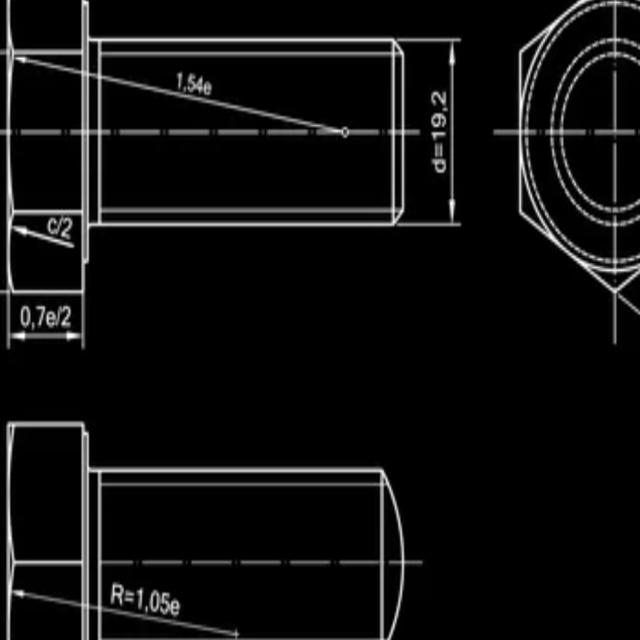marking_line: (15, 56, 341, 129), (13, 589, 241, 638), (404, 37, 462, 225), (5, 296, 89, 350), (12, 225, 74, 255)
numeric: (19, 303, 32, 328), (430, 88, 446, 107), (61, 306, 74, 328), (35, 304, 46, 327), (63, 217, 73, 242), (431, 115, 447, 129), (186, 71, 196, 93), (195, 75, 205, 94), (150, 590, 159, 611), (169, 598, 180, 615), (161, 590, 169, 613), (430, 129, 447, 139), (136, 588, 143, 612), (175, 69, 182, 90)
